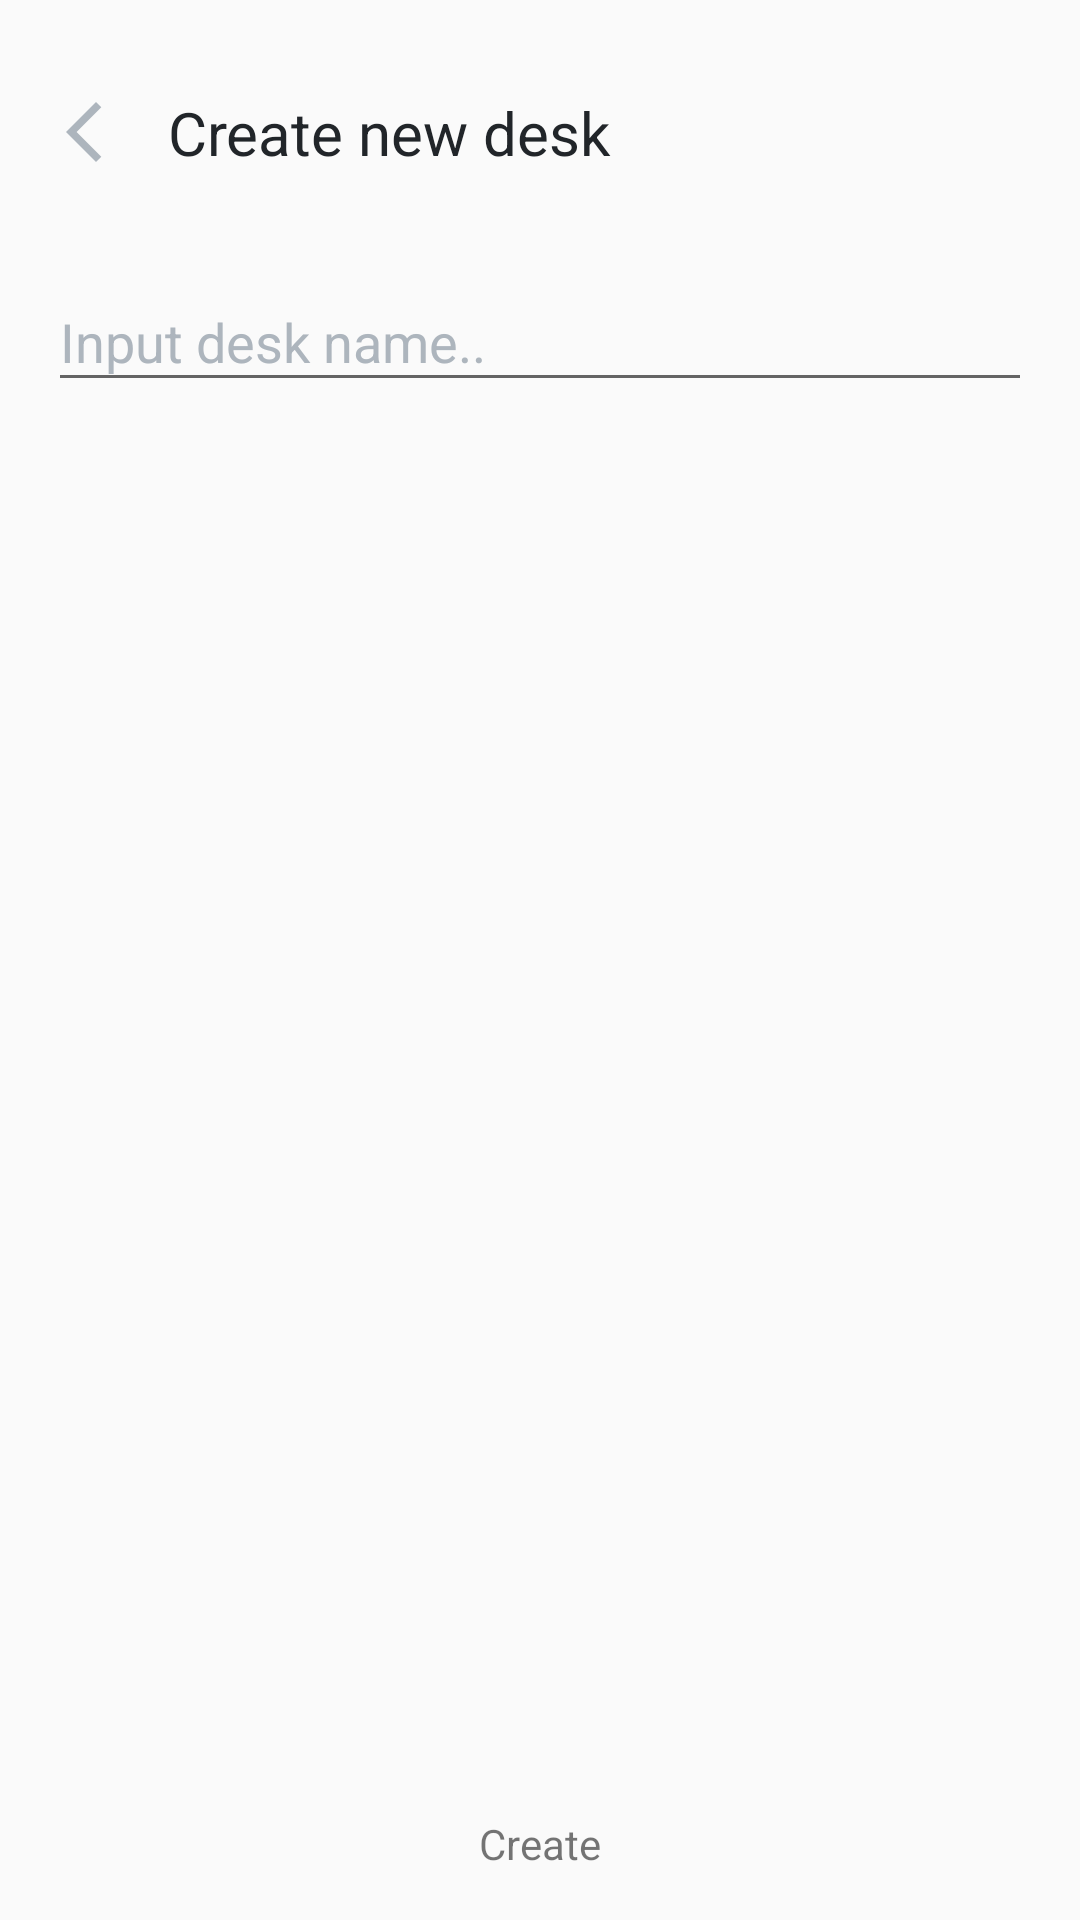

Where icons sit on this 1080w x 1920h app screen, as [x1, y1, x2, y2]:
back: [66, 102, 101, 162]
